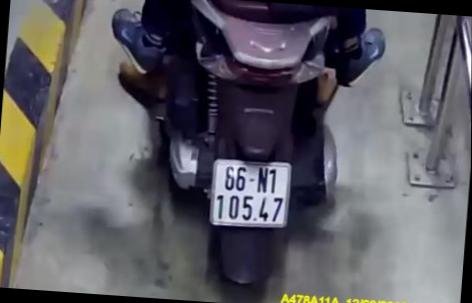LP: (209, 156, 293, 228)
